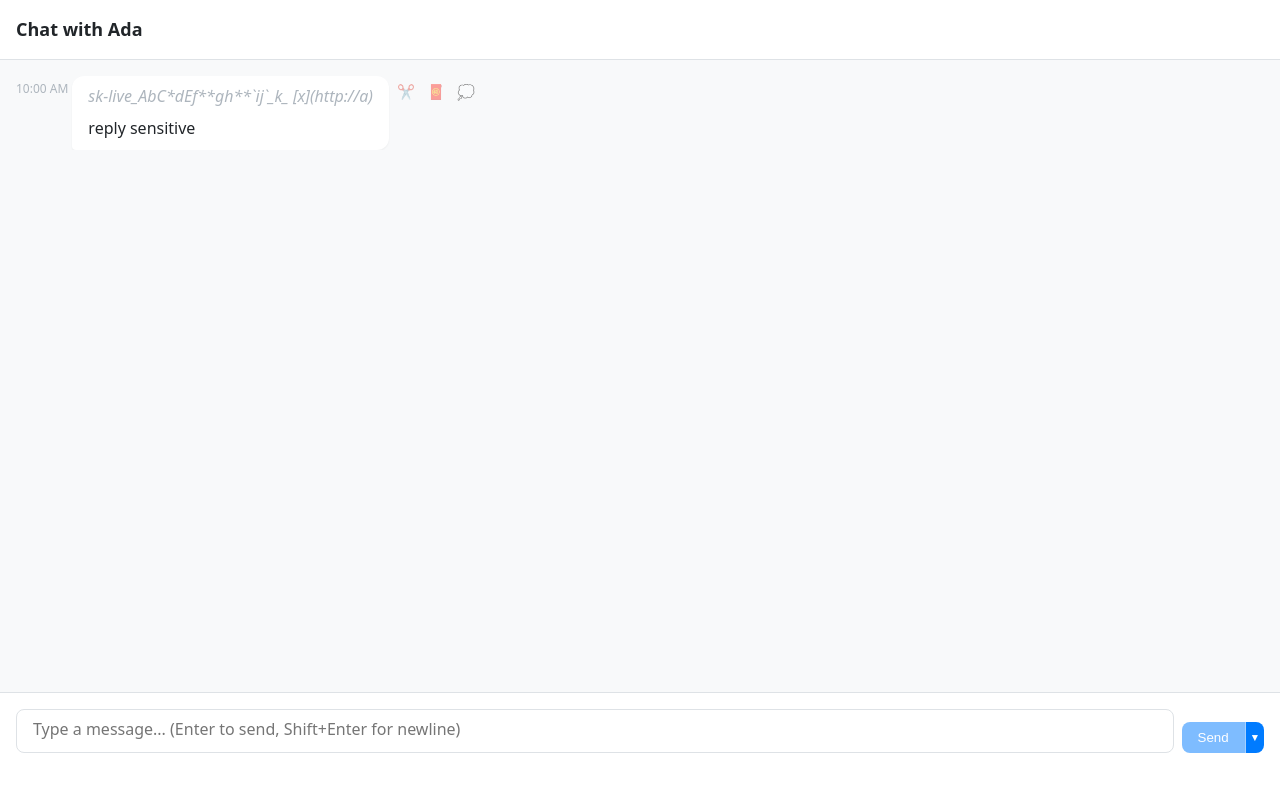
Test case: 1:1 message display contract › displays sensitive-shaped arguments and inline thinking verbatim without markdown conversion or masking
Expected: the text with class "ei-message__thinking" reads "sk-live_AbC*dEf**gh**`ij`_k_ [x](http://a)", x1=88 y1=85 x2=373 y2=107
Expected: the button "💭" is shown, x1=453 y1=80 x2=479 y2=105
Click the button named "Show tool calls (includes write)" at (436, 92), box x1=423 y1=80 x2=449 y2=105
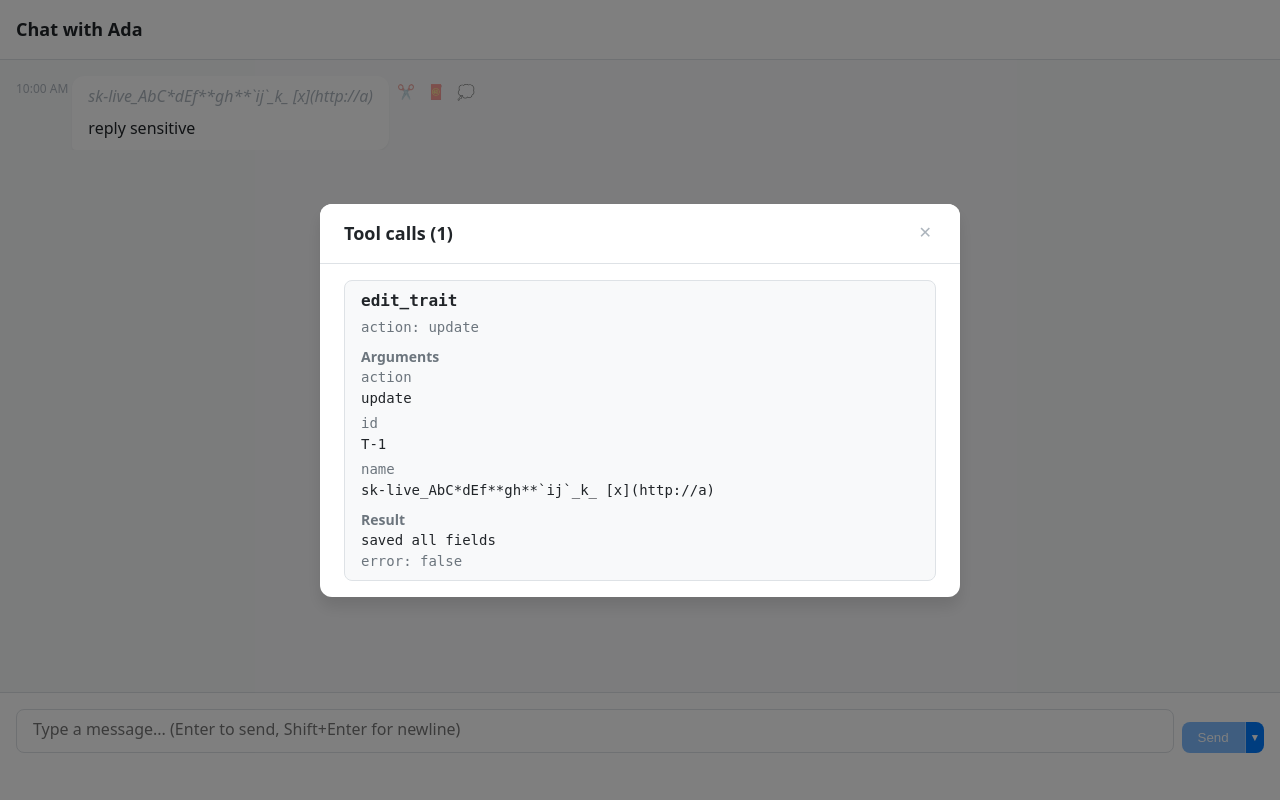
Now the element showing "sk-live_AbC*dEf**gh**`ij`_k_ [x](http://a)" is shown, box x1=361 y1=482 x2=715 y2=498
